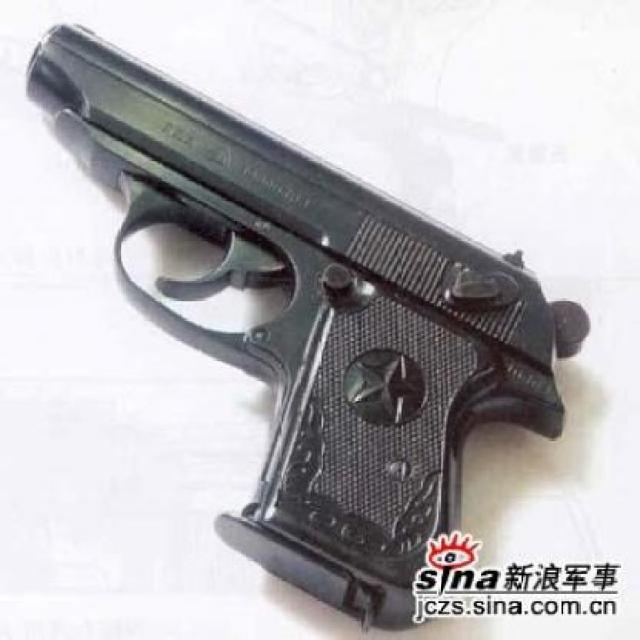gun: (3, 6, 580, 616)
